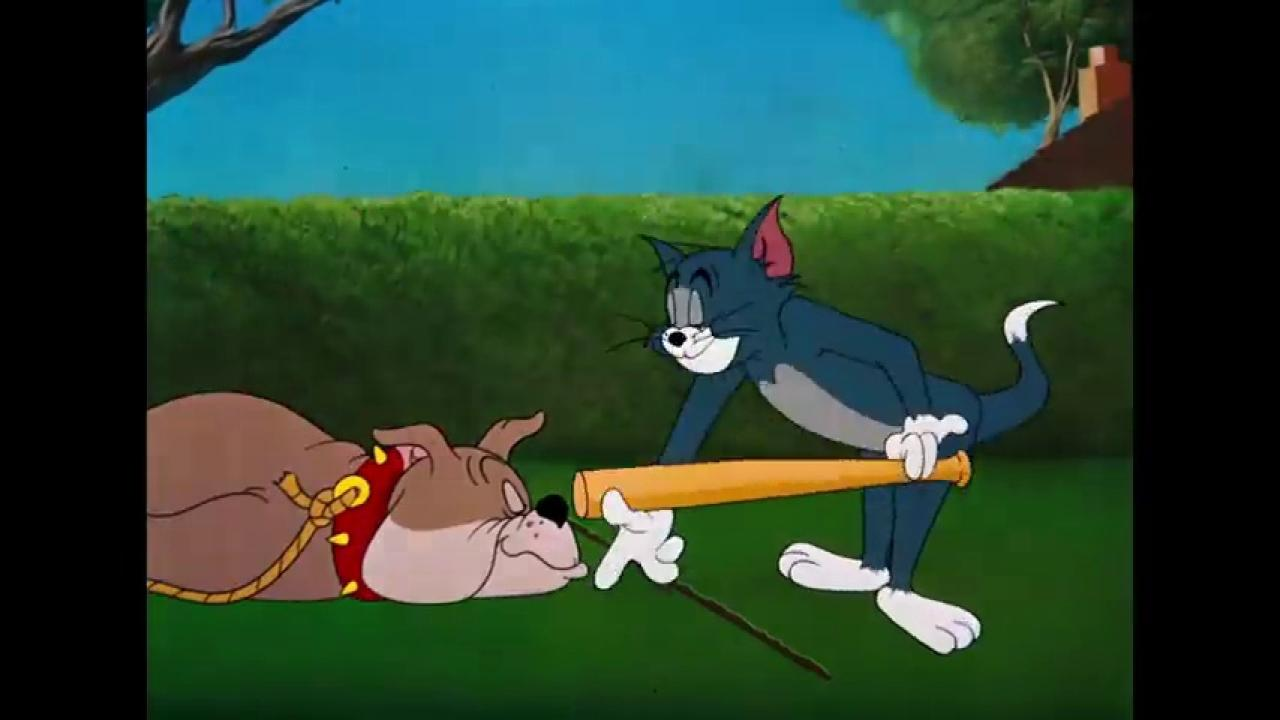Tom: (593, 192, 1066, 658)
